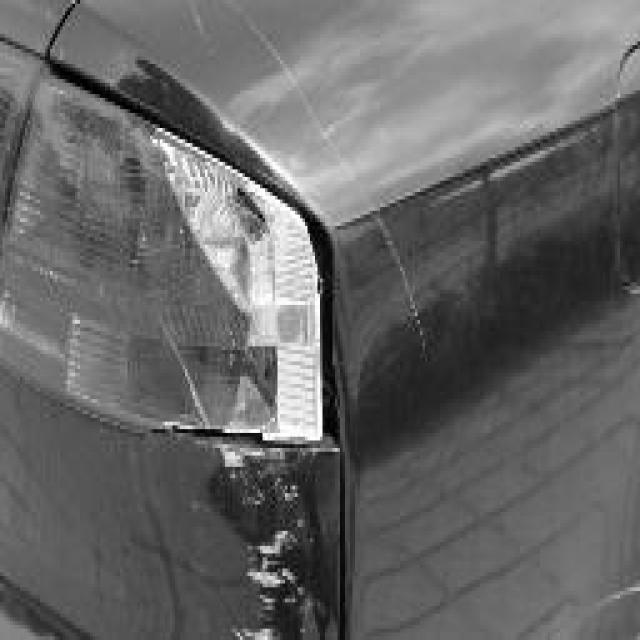Bumper: (195, 440, 338, 640)
Fender: (185, 0, 470, 346)
Light: (132, 286, 235, 448)
